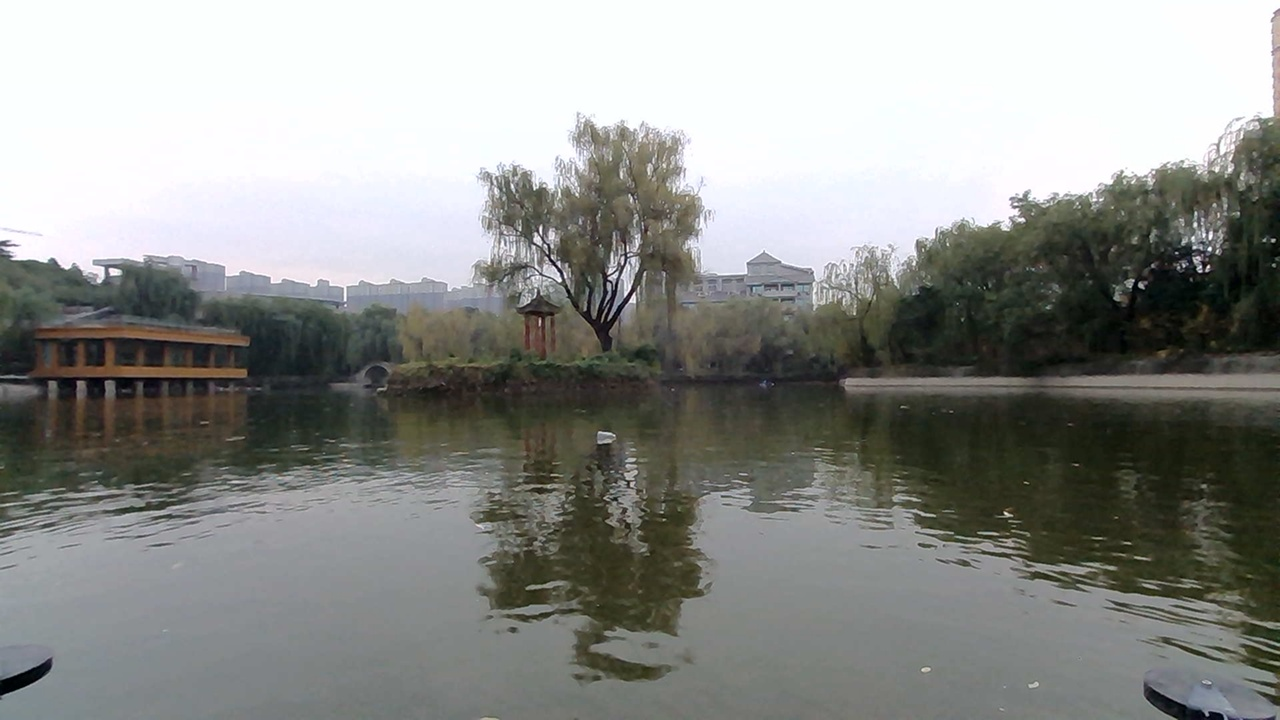bottle: (575, 419, 639, 452)
